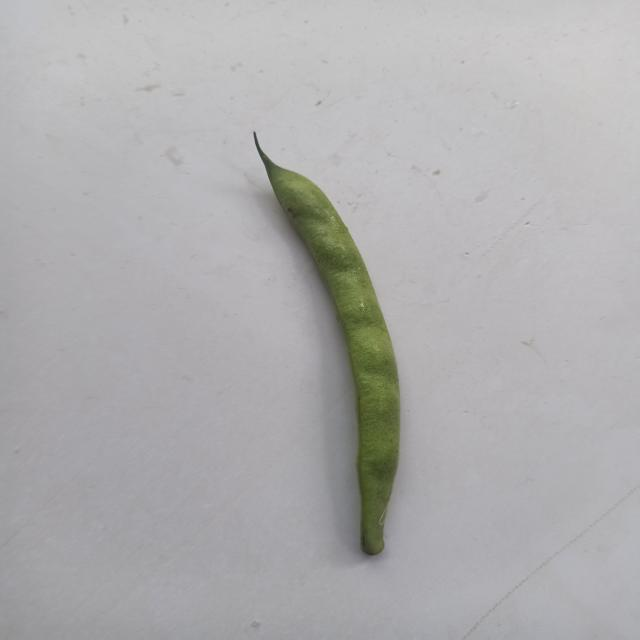Beans: (227, 120, 433, 570)
